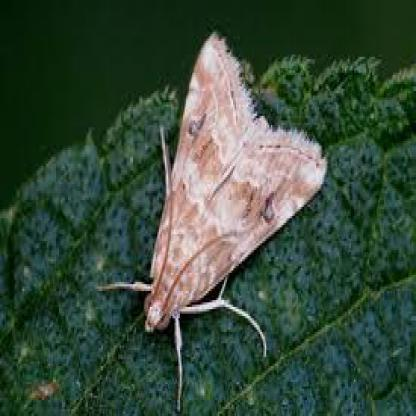Hellula undalis: (88, 29, 334, 398)
